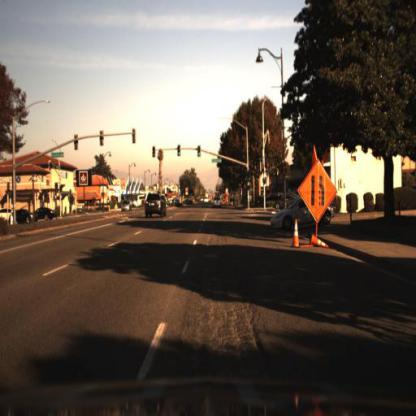car: (266, 189, 342, 238), (142, 188, 176, 222), (33, 206, 56, 222), (13, 208, 33, 224), (120, 200, 135, 217), (212, 194, 223, 211)
trafficLight-Green: (265, 161, 272, 177), (177, 148, 182, 164), (247, 176, 252, 192), (196, 148, 202, 160)
